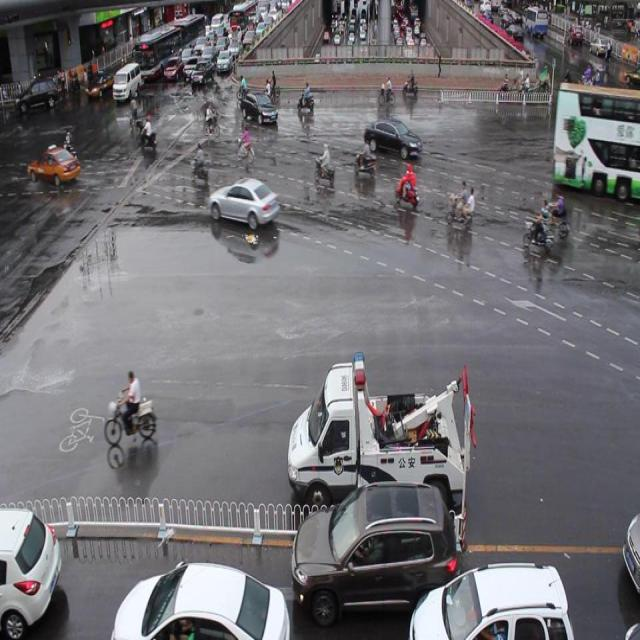bus: (287, 352, 473, 518)
car: (290, 480, 457, 622), (112, 559, 288, 640), (408, 560, 573, 640), (0, 502, 62, 640), (208, 175, 279, 228), (364, 116, 420, 162), (620, 510, 640, 596), (240, 90, 279, 126)
van: (552, 81, 640, 199)
